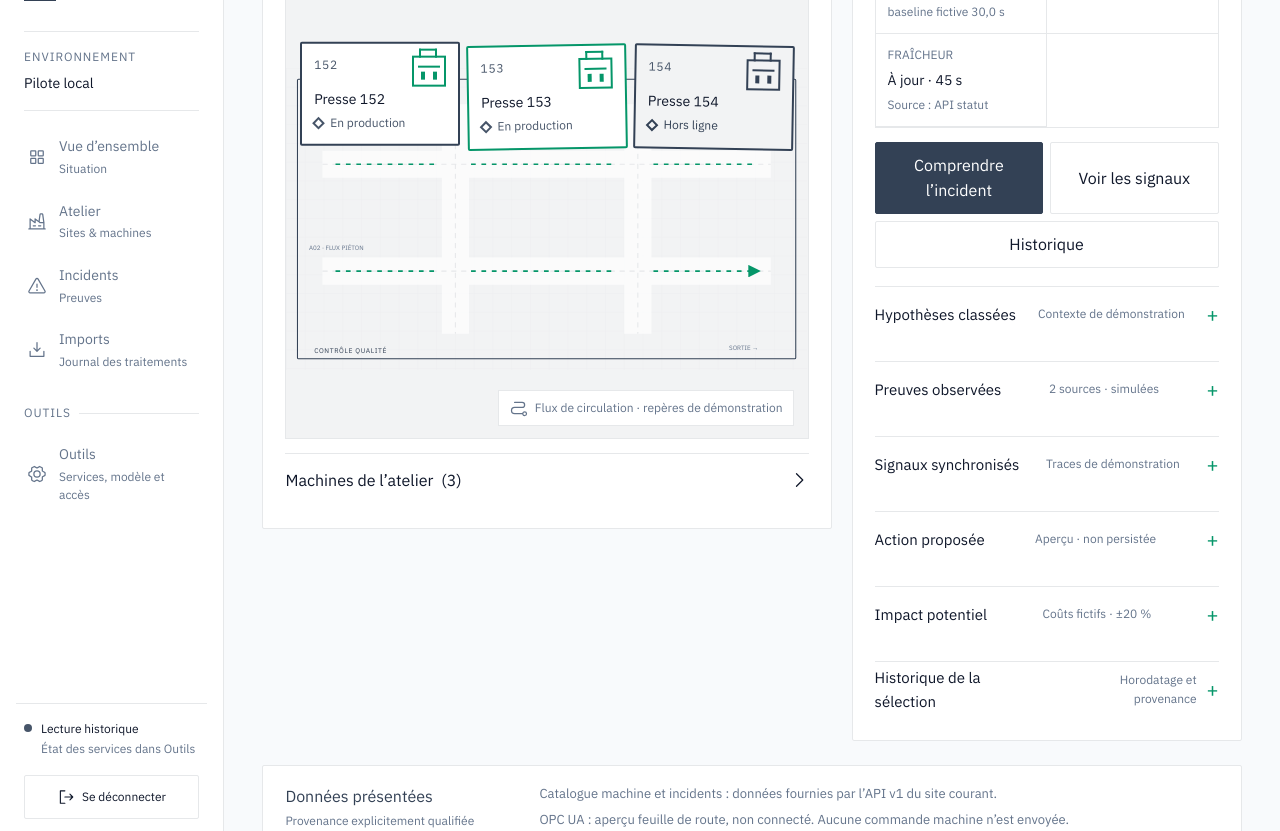
Test: showroom industriel › ouvre les sections secondaires à la demande et expose une alternative tabulaire
The width and height of the screenshot is (1280, 831).
(page scrolled)
Click the text "Preuves observées" at (938, 390), box [875,378,1001,401]
(page scrolled)
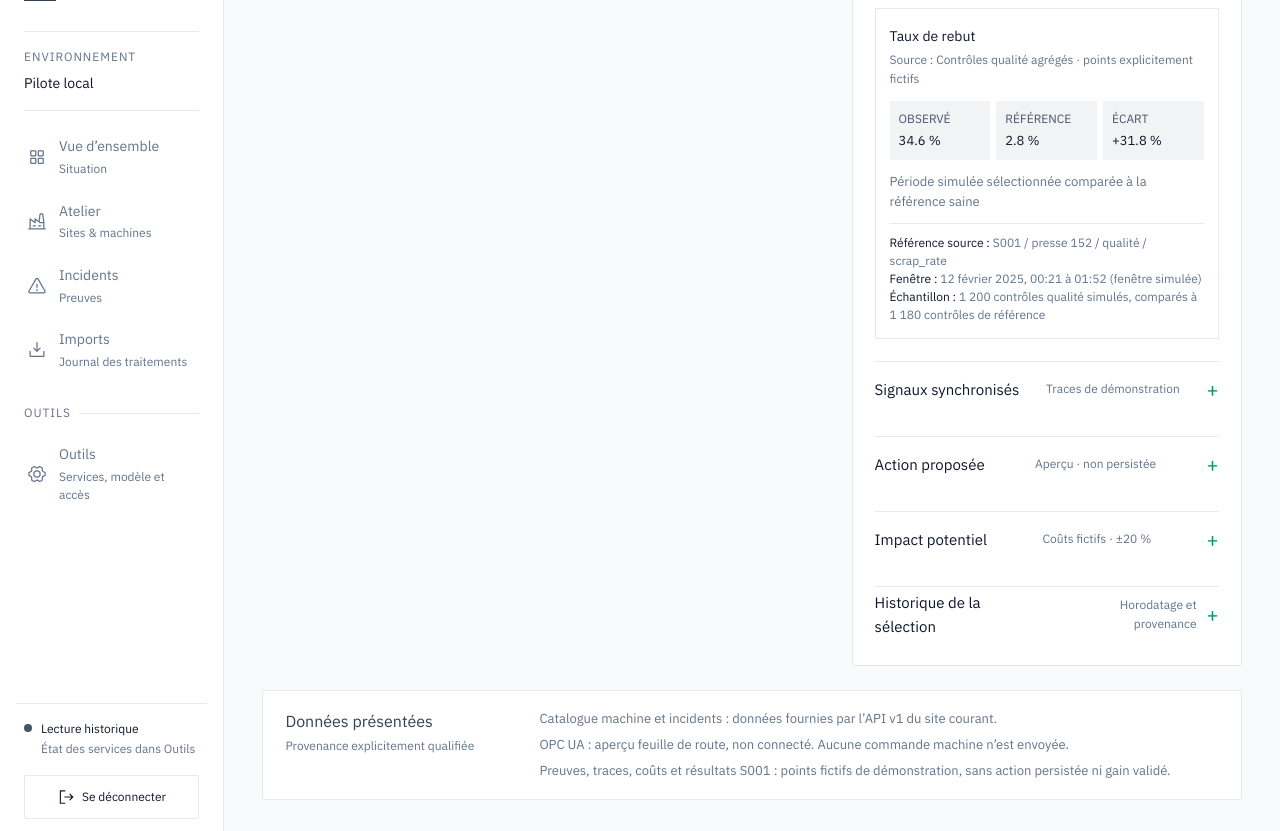
Click the text "Signaux synchronisés" at (947, 390), box [875,378,1019,401]
(page scrolled)
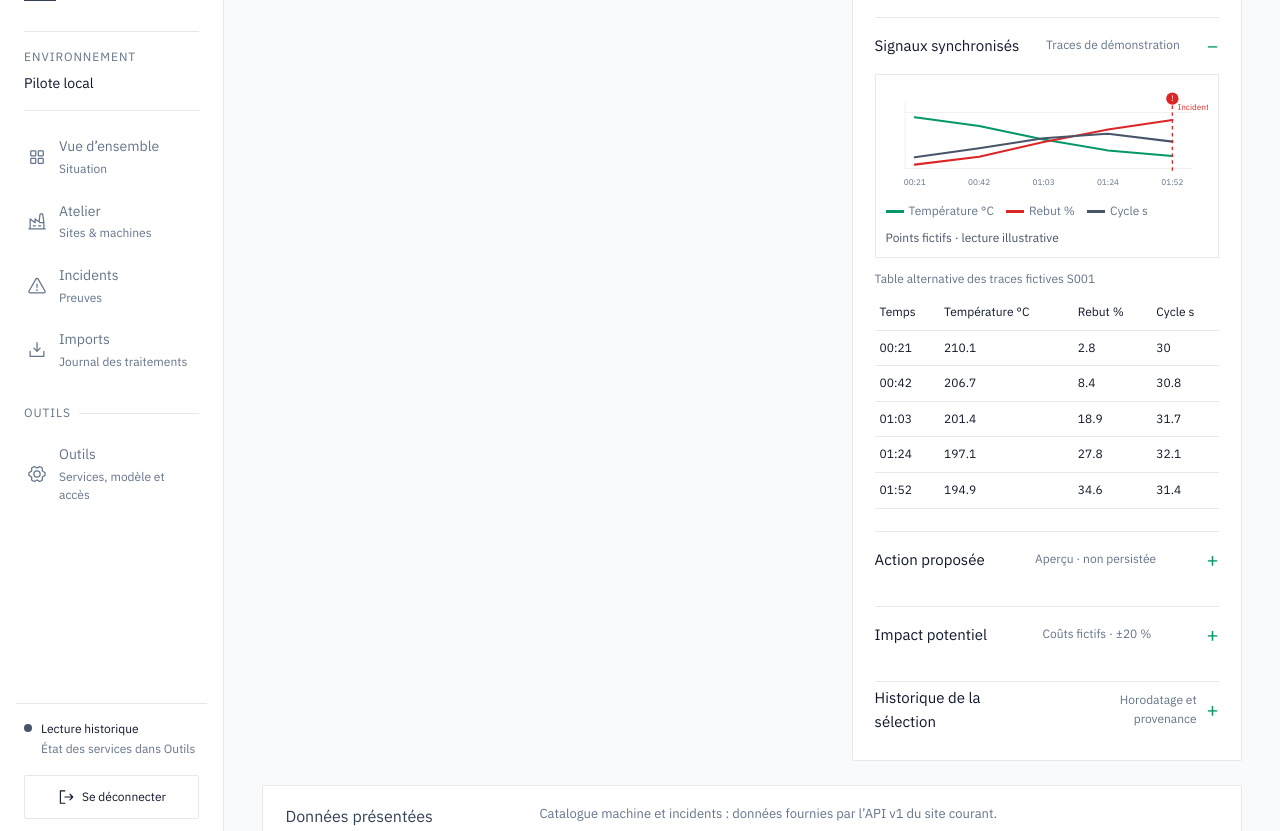
Now the table "traces fictives" is shown, box [875,270,1219,509]
